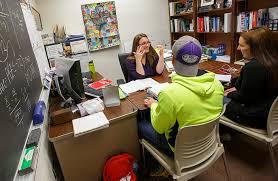Person: (163, 42, 217, 153), (236, 30, 278, 137), (126, 36, 168, 76)
